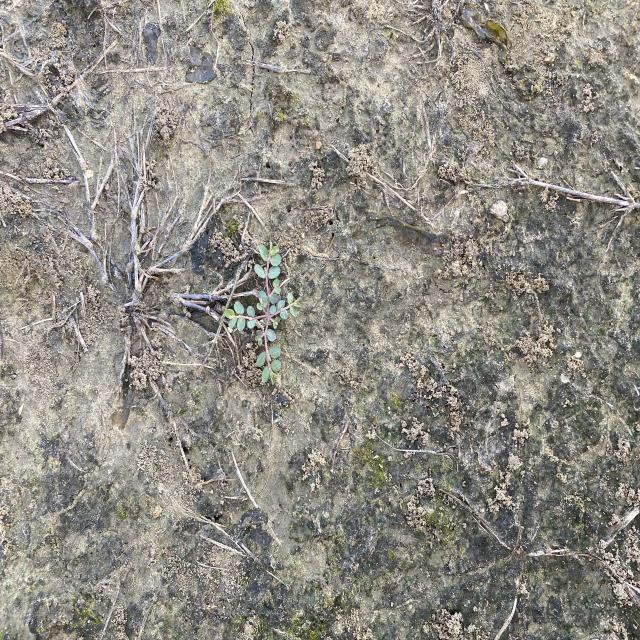SpottedSpurge: (222, 239, 304, 387)
